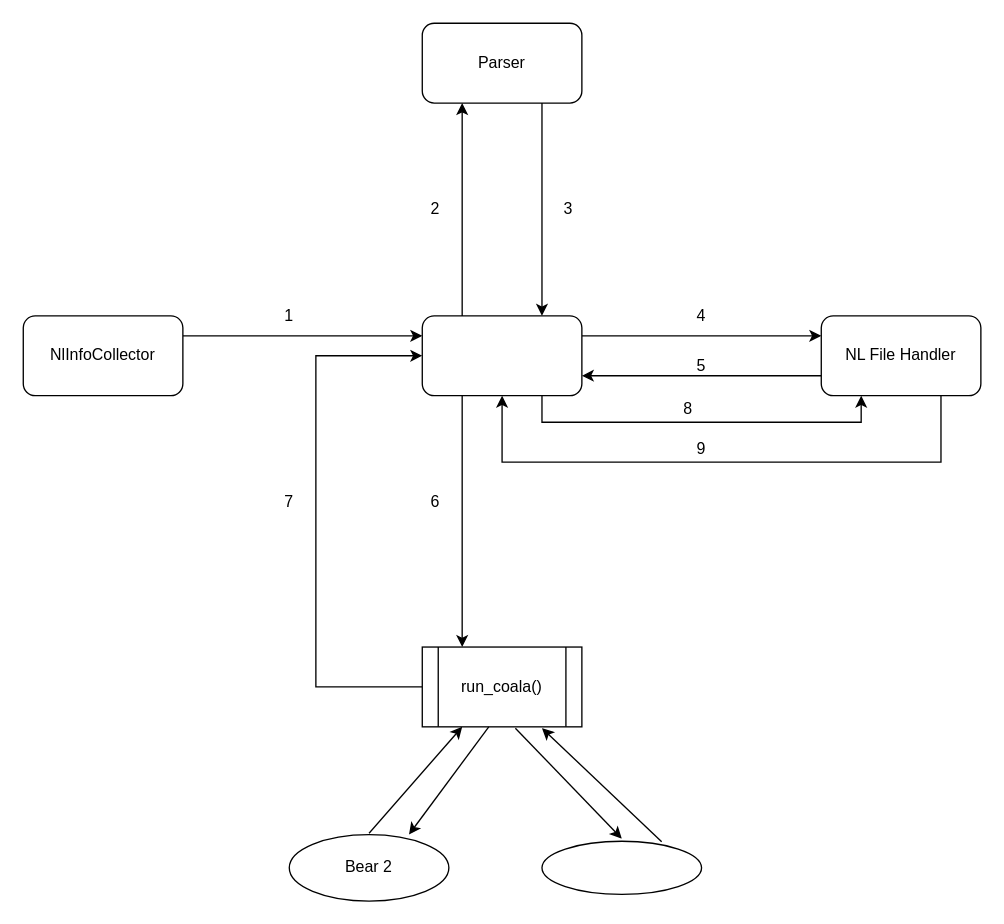
This 1004x924 diagram has some shape labels left out. The centre of each missing label's shape, as x and y in pixels:
Bear 1: the point at 621,867
NL Core: the point at 501,355
